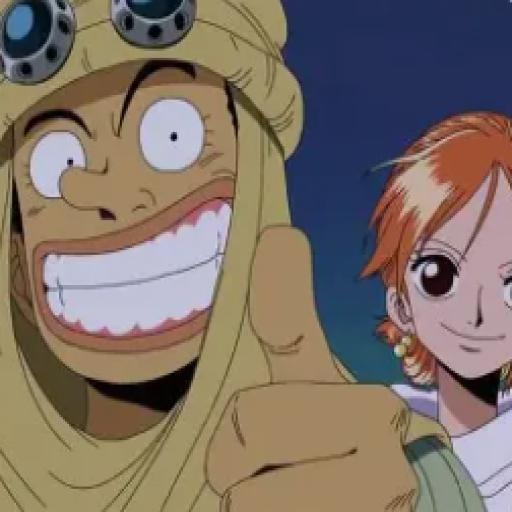Nami: (357, 108, 511, 512)
Usopp: (1, 1, 420, 512)
